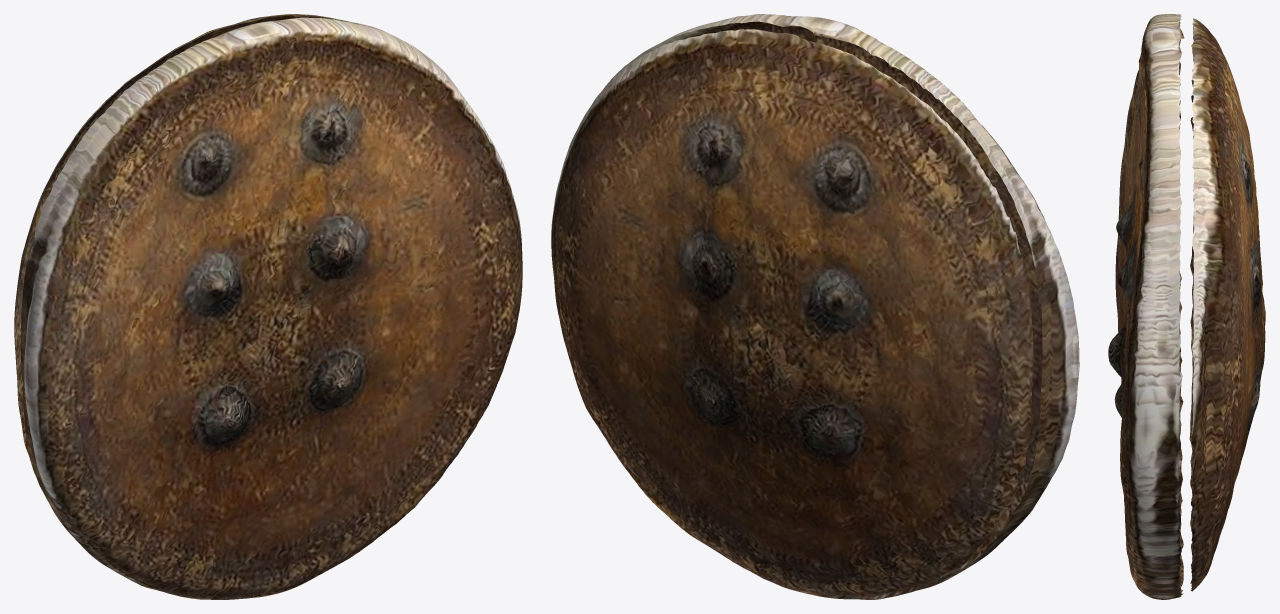
File: kfl-2130.glb
The picture shows the model from 3 angles, left to right: view 1: azimuth 30°, elevation 25°; view 2: azimuth 150°, elevation 25°; view 3: azimuth 270°, elevation 25°; orthographic projection. The views are drawn at different scales.
Visible parts, largest first — view 1: geometry_0; view 2: geometry_0; view 3: geometry_0.
Boxes of the visible parts, x1,y1,x2,y2 form: geometry_0: (14,14,522,599); geometry_0: (551,14,1079,599); geometry_0: (1108,14,1265,599).
Bounding box in the file's own units: 0.9122 × 0.9939 × 0.2622.
1 material, 1 textured.
